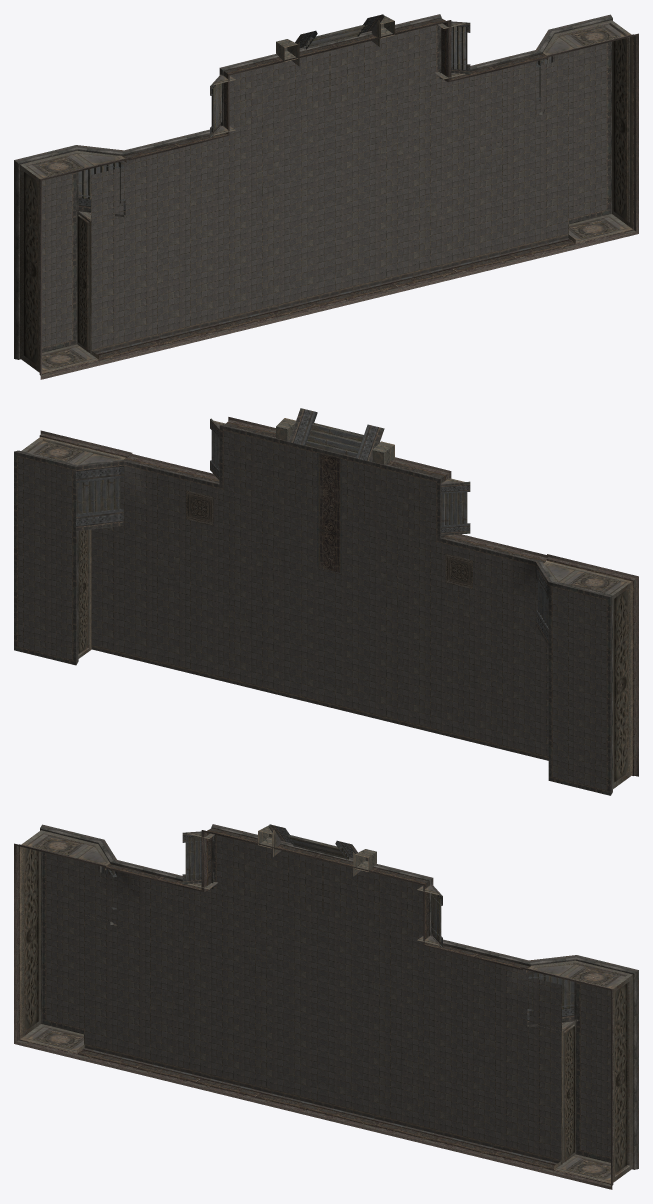
The model's file is pingtai.FBX.
The picture shows the model from 3 angles, top to bottom: view 1: azimuth 30°, elevation 25°; view 2: azimuth 150°, elevation 25°; view 3: azimuth 330°, elevation 25°; orthographic projection.
Parts seen in each view (by area): view 1: Mesh_0267; view 2: Mesh_0267; view 3: Mesh_0267.
Part boxes in pixels (box(x1,y1,x2,y2)): Mesh_0267: box(14, 14, 638, 379); Mesh_0267: box(14, 408, 638, 795); Mesh_0267: box(14, 824, 638, 1189).
Size of the model in its own units: 56.16 by 25.48 by 5.07.
Materials: 2 (2 with a texture image).
